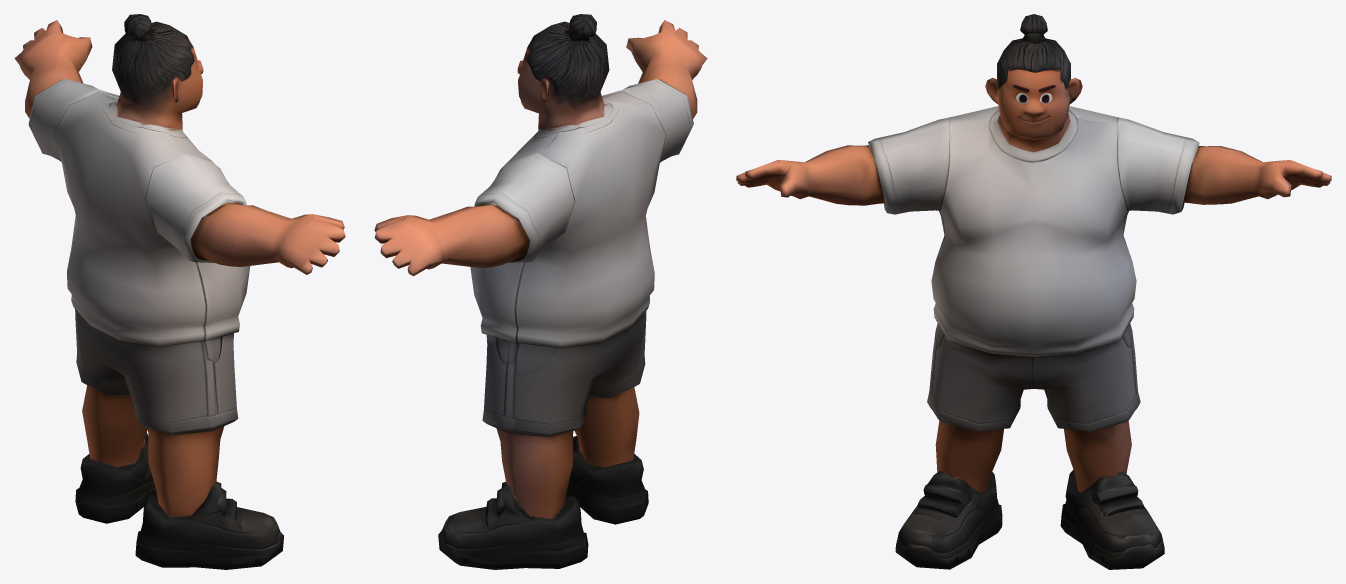
3 renders of one model, left to right at view 1: azimuth 30°, elevation 25°; view 2: azimuth 150°, elevation 25°; view 3: azimuth 270°, elevation 25°, orthographic.
Parts seen in each view (by area): view 1: tripo_node_deac773a-2047-457b-90e6-9e0778aac2ae; view 2: tripo_node_deac773a-2047-457b-90e6-9e0778aac2ae; view 3: tripo_node_deac773a-2047-457b-90e6-9e0778aac2ae.
Boxes of the visible parts, box(x1,y1,x2,y2) form: tripo_node_deac773a-2047-457b-90e6-9e0778aac2ae: box(14, 14, 345, 569); tripo_node_deac773a-2047-457b-90e6-9e0778aac2ae: box(374, 14, 707, 569); tripo_node_deac773a-2047-457b-90e6-9e0778aac2ae: box(736, 14, 1331, 569).
Bounding box in the file's own units: 0.2896 × 0.9507 × 0.9995.
1 material, 1 textured.
